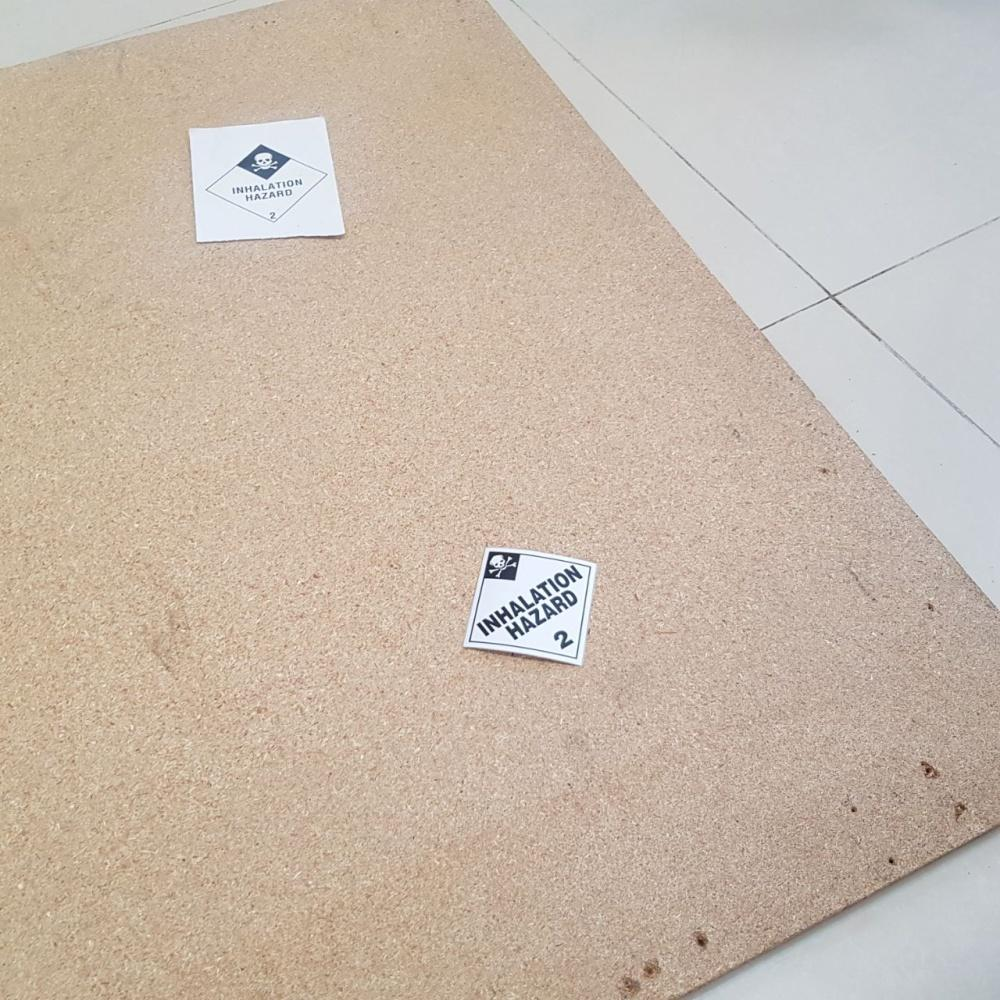poison: (461, 550, 595, 671), (199, 136, 336, 226)
